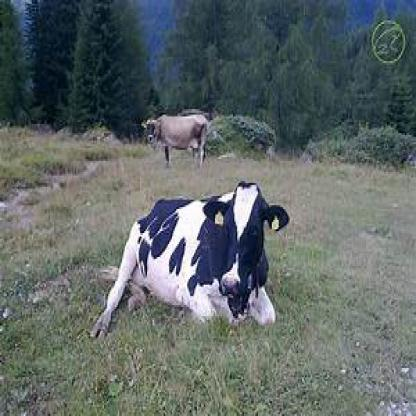cow: (106, 194, 292, 351), (140, 116, 215, 165)
